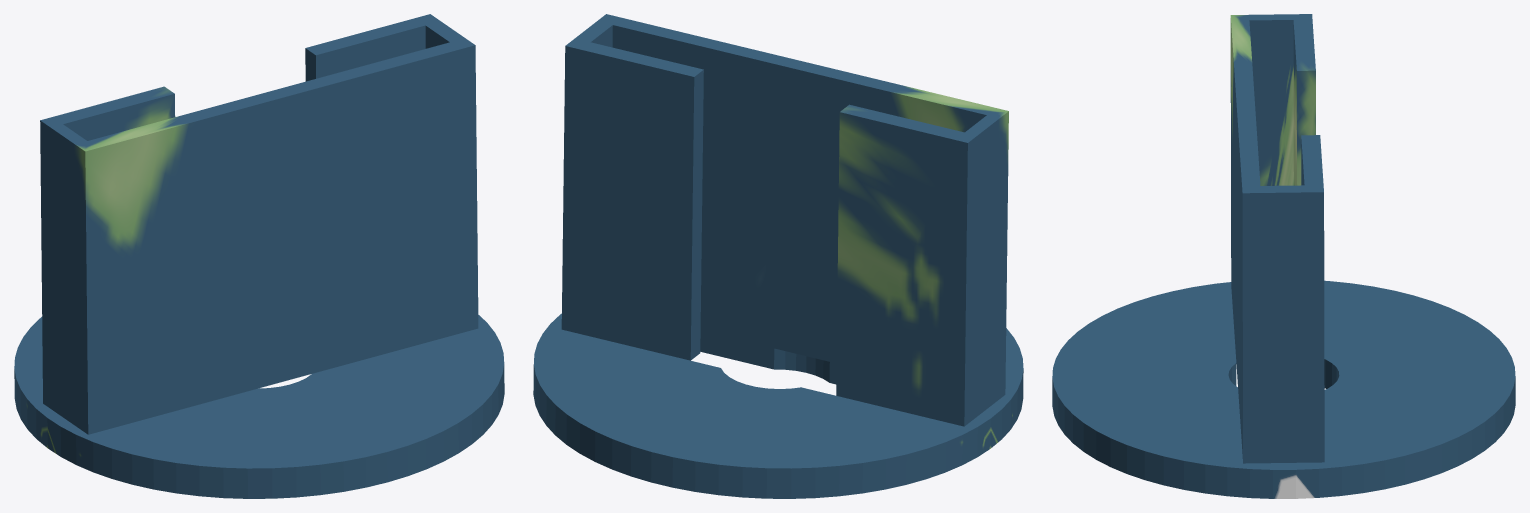
Rendered from testobj.obj.
3 renders of one model, left to right at view 1: azimuth 30°, elevation 25°; view 2: azimuth 150°, elevation 25°; view 3: azimuth 270°, elevation 25°, orthographic. The views are drawn at different scales.
Parts seen in each view (by area): view 1: Body5; view 2: Body5; view 3: Body5.
Part boxes in pixels (x1,y1,x2,y2): Body5: [14, 14, 504, 498]; Body5: [533, 14, 1023, 498]; Body5: [1052, 14, 1515, 498].
Bounding box in the file's own units: 2.29 × 1.65 × 2.29.
1 material, 1 textured.
